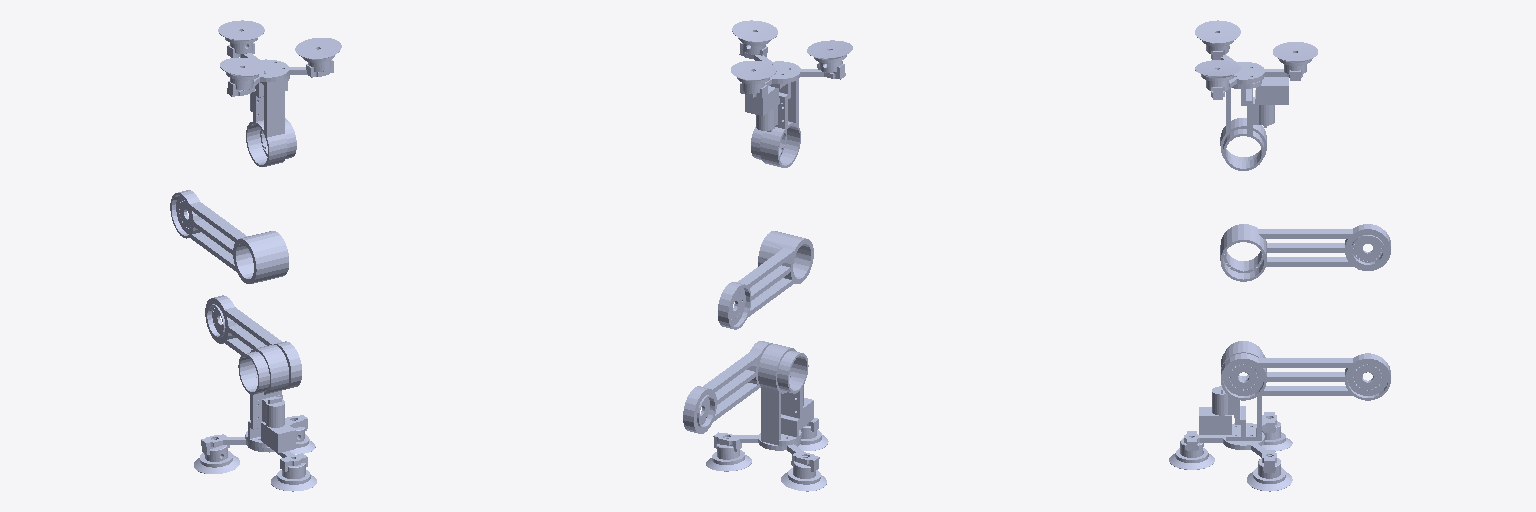
robot.urdf — bigmama0310:
<?xml version="1.0" encoding="utf-8" ?>
<!-- This URDF was automatically created by SolidWorks to URDF Exporter! Originally created by [author] ([email redacted]) 
     Commit Version: 1.6.0-1-g15f4949  Build Version: 1.6.7594.29634
     For more information, please see http://wiki.ros.org/sw_urdf_exporter -->
<robot name="bigmama0310">
    <link name="dummy" />
    <link name="Link_0">
        
<inertial>
            <origin xyz="-0.0036197 -0.0088605 0.029488" rpy="0 0 0" />
            <mass value="0.80666" />
            <inertia ixx="0.0014974" ixy="-1.2947E-05" ixz="1.4235E-05" iyy="0.0014446" iyz="-7.5473E-06" izz="0.0010286" />
        </inertial>

        <visual>
            <origin xyz="0 0 0" rpy="0 0 0" />
            <geometry>
                <mesh filename="package://bigmama0310/meshes/Link_0.STL" />
            </geometry>
            <material name="">
                <color rgba="0.79216 0.81961 0.93333 1" />
            </material>
        </visual>
        <collision>
            <origin xyz="0 0 0" rpy="0 0 0" />
            <geometry>
                <mesh filename="package://bigmama0310/meshes/Link_0.STL" />
            </geometry>
        </collision>
    </link>
    <joint name="dummy_joint" type="fixed">
        <parent link="dummy" />
        <child link="Link_0" />
    </joint>
    <link name="Link_1">
        
<inertial>
            <origin xyz="-6.6613E-16 0.12 0.014813" rpy="0 0 0" />
            <mass value="0.28238" />
            <inertia ixx="0.0027445" ixy="4.8493E-20" ixz="4.7639E-21" iyy="0.00019508" iyz="-5.2573E-20" izz="0.0029159" />
        </inertial>

        <visual>
            <origin xyz="0 0 0" rpy="0 0 0" />
            <geometry>
                <mesh filename="package://bigmama0310/meshes/Link_1.STL" />
            </geometry>
            <material name="">
                <color rgba="0.79216 0.81961 0.93333 1" />
            </material>
        </visual>
        <collision>
            <origin xyz="0 0 0" rpy="0 0 0" />
            <geometry>
                <mesh filename="package://bigmama0310/meshes/Link_1.STL" />
            </geometry>
        </collision>
    </link>
    <joint name="Joint_1" type="revolute">
        <origin xyz="0.022 0 0.155" rpy="1.5708 0 1.5708" />
        <parent link="Link_0" />
        <child link="Link_1" />
        <axis xyz="0 0 -1" />
        <limit lower="-3.14" upper="3.14" effort="100" velocity="0.25" />
    </joint>
    <link name="Link_2">
        
<inertial>
            <origin xyz="1.1102E-16 0.098184 -0.051898" rpy="0 0 0" />
            <mass value="0.34516" />
            <inertia ixx="0.0036332" ixy="3.4187E-18" ixz="-4.4355E-19" iyy="0.00034405" iyz="0.00024115" izz="0.0037914" />
        </inertial>

        <visual>
            <origin xyz="0 0 0" rpy="0 0 0" />
            <geometry>
                <mesh filename="package://bigmama0310/meshes/Link_2.STL" />
            </geometry>
            <material name="">
                <color rgba="0.79216 0.81961 0.93333 1" />
            </material>
        </visual>
        <collision>
            <origin xyz="0 0 0" rpy="0 0 0" />
            <geometry>
                <mesh filename="package://bigmama0310/meshes/Link_2.STL" />
            </geometry>
        </collision>
    </link>
    <joint name="Joint_2" type="revolute">
        <origin xyz="0 0.24 0" rpy="0 0 0" />
        <parent link="Link_1" />
        <child link="Link_2" />
        <axis xyz="0 0 -1" />
        <limit lower="-3.14" upper="3.14" effort="100" velocity="0.25" />
    </joint>
    <link name="Link_3">
        
<inertial>
            <origin xyz="0.018256 0.077688 0.029219" rpy="0 0 0" />
            <mass value="0.40524" />
            <inertia ixx="0.0010067" ixy="-1.0212E-05" ixz="-1.2958E-05" iyy="0.00027741" iyz="1.4235E-05" izz="0.0011025" />
        </inertial>

        <visual>
            <origin xyz="0 0 0" rpy="0 0 0" />
            <geometry>
                <mesh filename="package://bigmama0310/meshes/Link_3.STL" />
            </geometry>
            <material name="">
                <color rgba="0.79216 0.81961 0.93333 1" />
            </material>
        </visual>
        <collision>
            <origin xyz="0 0 0" rpy="0 0 0" />
            <geometry>
                <mesh filename="package://bigmama0310/meshes/Link_3.STL" />
            </geometry>
        </collision>
    </link>
    <joint name="Joint_3" type="revolute">
        <origin xyz="0 0.24 -0.0442" rpy="0 0 0" />
        <parent link="Link_2" />
        <child link="Link_3" />
        <axis xyz="0 0 1" />
        <limit lower="-3.14" upper="3.14" effort="100" velocity="0.25" />
    </joint>
    <link name="Link_4">
        
<inertial>
            <origin xyz="-0.0019821 -5.3163E-05 -0.0061503" rpy="0 0 0" />
            <mass value="0.11687" />
            <inertia ixx="0.00032202" ixy="1.2427E-08" ixz="-2.8556E-06" iyy="0.00028102" iyz="7.1483E-09" izz="0.00059866" />
        </inertial>

        <visual>
            <origin xyz="0 0 0" rpy="0 0 0" />
            <geometry>
                <mesh filename="package://bigmama0310/meshes/Link_4.STL" />
            </geometry>
            <material name="">
                <color rgba="0.79216 0.81961 0.93333 1" />
            </material>
        </visual>
        <collision>
            <origin xyz="0 0 0" rpy="0 0 0" />
            <geometry>
                <mesh filename="package://bigmama0310/meshes/Link_4.STL" />
            </geometry>
        </collision>
    </link>
    <joint name="Joint_4" type="revolute">
        <origin xyz="0 0.145 0.022" rpy="1.5708 0 0" />
        <parent link="Link_3" />
        <child link="Link_4" />
        <axis xyz="0 0 -1" />
        <limit lower="0" upper="0.0001" effort="50" velocity="0.0001" />
        <dynamics damping="10" friction="10" />
    </joint>
    <link name="Link_forwardsucker">
        
<inertial>
            <origin xyz="0.00019923 2.8479E-08 -0.00091557" rpy="0 0 0" />
            <mass value="0.094825" />
            <inertia ixx="3.8502E-05" ixy="2.9201E-10" ixz="-2.0628E-07" iyy="3.7774E-05" iyz="1.0266E-11" izz="5.0867E-05" />
        </inertial>

        <visual>
            <origin xyz="0 0 0" rpy="0 0 0" />
            <geometry>
                <mesh filename="package://bigmama0310/meshes/Link_forwardsucker.STL" />
            </geometry>
            <material name="">
                <color rgba="0.79216 0.81961 0.93333 1" />
            </material>
        </visual>
        <collision>
            <origin xyz="0 0 0" rpy="0 0 0" />
            <geometry>
                <mesh filename="package://bigmama0310/meshes/Link_forwardsucker.STL" />
            </geometry>
        </collision>
    </link>
    <joint name="Joint_forwardsucker" type="revolute">
        <origin xyz="0.1 0 -0.035" rpy="0 0 0" />
        <parent link="Link_4" />
        <child link="Link_forwardsucker" />
        <axis xyz="0 0 -1" />
        <limit lower="0" upper="0.0001" effort="50" velocity="0.0001" />
        <dynamics damping="10" friction="10" />
    </joint>
    <link name="Link_innersucker">
        
<inertial>
            <origin xyz="-0.00019923 -3.1852E-08 -0.00091557" rpy="0 0 0" />
            <mass value="0.094825" />
            <inertia ixx="3.8502E-05" ixy="2.7231E-10" ixz="2.0628E-07" iyy="3.7774E-05" iyz="-1.9159E-11" izz="5.0867E-05" />
        </inertial>

        <visual>
            <origin xyz="0 0 0" rpy="0 0 0" />
            <geometry>
                <mesh filename="package://bigmama0310/meshes/Link_innersucker.STL" />
            </geometry>
            <material name="">
                <color rgba="0.79216 0.81961 0.93333 1" />
            </material>
        </visual>
        <collision>
            <origin xyz="0 0 0" rpy="0 0 0" />
            <geometry>
                <mesh filename="package://bigmama0310/meshes/Link_innersucker.STL" />
            </geometry>
        </collision>
    </link>
    <joint name="Joint_innersucker" type="revolute">
        <origin xyz="-0.05 -0.084379 -0.038337" rpy="0.078319 0 0" />
        <parent link="Link_4" />
        <child link="Link_innersucker" />
        <axis xyz="0 0 -1" />
        <limit lower="0" upper="0.0001" effort="50" velocity="0.0001" />
        <dynamics damping="10" friction="10" />
    </joint>
    <link name="Link_extersucker">
        
<inertial>
            <origin xyz="-0.00019923 -2.3068E-08 -0.00091557" rpy="0 0 0" />
            <mass value="0.094825" />
            <inertia ixx="3.8502E-05" ixy="2.7492E-10" ixz="2.0628E-07" iyy="3.7774E-05" iyz="-5.9501E-12" izz="5.0867E-05" />
        </inertial>

        <visual>
            <origin xyz="0 0 0" rpy="0 0 0" />
            <geometry>
                <mesh filename="package://bigmama0310/meshes/Link_extersucker.STL" />
            </geometry>
            <material name="">
                <color rgba="0.79216 0.81961 0.93333 1" />
            </material>
        </visual>
        <collision>
            <origin xyz="0 0 0" rpy="0 0 0" />
            <geometry>
                <mesh filename="package://bigmama0310/meshes/Link_extersucker.STL" />
            </geometry>
        </collision>
    </link>
    <joint name="Joint_extersucker" type="revolute">
        <origin xyz="-0.05 0.084379 -0.038337" rpy="-0.078319 0 0" />
        <parent link="Link_4" />
        <child link="Link_extersucker" />
        <axis xyz="0 0 -1" />
        <limit lower="0" upper="0.0001" effort="50" velocity="0.0001" />
        <dynamics damping="10" friction="10" />
    </joint>
    
<transmission name="trans_Joint_1">
        <type>transmission_interface/SimpleTransmission</type>
        <joint name="Joint_1">
            <hardwareInterface>hardware_interface/PositionJointInterface</hardwareInterface>
        </joint>
        <actuator name="Joint_1_motor">
            <hardwareInterface>hardware_interface/PositionJointInterface</hardwareInterface>
            <mechanicalReduction>1</mechanicalReduction>
        </actuator>
    </transmission>
    <transmission name="trans_Joint_2">
        <type>transmission_interface/SimpleTransmission</type>
        <joint name="Joint_2">
            <hardwareInterface>hardware_interface/PositionJointInterface</hardwareInterface>
        </joint>
        <actuator name="Joint_2_motor">
            <hardwareInterface>hardware_interface/PositionJointInterface</hardwareInterface>
            <mechanicalReduction>1</mechanicalReduction>
        </actuator>
    </transmission>
    <transmission name="trans_Joint_3">
        <type>transmission_interface/SimpleTransmission</type>
        <joint name="Joint_3">
            <hardwareInterface>hardware_interface/PositionJointInterface</hardwareInterface>
        </joint>
        <actuator name="Joint_3_motor">
            <hardwareInterface>hardware_interface/PositionJointInterface</hardwareInterface>
            <mechanicalReduction>1</mechanicalReduction>
        </actuator>
    </transmission>
    <transmission name="trans_Joint_4">
        <type>transmission_interface/SimpleTransmission</type>
        <joint name="Joint_4">
            <hardwareInterface>hardware_interface/PositionJointInterface</hardwareInterface>
        </joint>
        <actuator name="Joint_4_motor">
            <hardwareInterface>hardware_interface/PositionJointInterface</hardwareInterface>
            <mechanicalReduction>1</mechanicalReduction>
        </actuator>
    </transmission>
    <transmission name="trans_Joint_forwardsucker">
        <type>transmission_interface/SimpleTransmission</type>
        <joint name="Joint_forwardsucker">
            <hardwareInterface>hardware_interface/PositionJointInterface</hardwareInterface>
        </joint>
        <actuator name="Joint_forwardsucker_motor">
            <hardwareInterface>hardware_interface/PositionJointInterface</hardwareInterface>
            <mechanicalReduction>1</mechanicalReduction>
        </actuator>
    </transmission>
    <transmission name="trans_Joint_innersucker">
        <type>transmission_interface/SimpleTransmission</type>
        <joint name="Joint_innersucker">
            <hardwareInterface>hardware_interface/PositionJointInterface</hardwareInterface>
        </joint>
        <actuator name="Joint_innersucker_motor">
            <hardwareInterface>hardware_interface/PositionJointInterface</hardwareInterface>
            <mechanicalReduction>1</mechanicalReduction>
        </actuator>
    </transmission>
    <transmission name="trans_Joint_extersucker">
        <type>transmission_interface/SimpleTransmission</type>
        <joint name="Joint_extersucker">
            <hardwareInterface>hardware_interface/PositionJointInterface</hardwareInterface>
        </joint>
        <actuator name="Joint_extersucker_motor">
            <hardwareInterface>hardware_interface/PositionJointInterface</hardwareInterface>
            <mechanicalReduction>1</mechanicalReduction>
        </actuator>
    </transmission>
    <gazebo reference="Link_3">
        <material>Gazebo/Yellow</material>
        <mu1>100</mu1>
        <mu2>100</mu2>
        <fdir1>1 0 0</fdir1>
        <slip1>0</slip1>
        <slip2>0</slip2>
    </gazebo>
    <gazebo reference="Link_0">
        <material>Gazebo/Green</material>
        <mu1>0.9</mu1>
        <mu2>0.9</mu2>
        <fdir1>1 0 0</fdir1>
        <slip1>0</slip1>
        <slip2>0</slip2>
    </gazebo>
    <gazebo>
        <plugin name="gazebo_ros_control" filename="libgazebo_ros_control.so">
            <robotNamespace>/</robotNamespace>
        </plugin>
    </gazebo>
</robot>

--- What the picture shows (computed from the rendered views, not written in the file) ---
The picture shows the robot from 3 angles, left to right: view 1: azimuth 30°, elevation 25°; view 2: azimuth 150°, elevation 25°; view 3: azimuth 270°, elevation 25°; orthographic projection.
Robot: bigmama0310 — 9 links, 8 joints (7 revolute, 1 fixed); root link dummy; default pose: every joint at zero.
Links seen in each view (by area): view 1: Link_0, Link_2, Link_3, Link_1, Link_4, Link_extersucker, Link_forwardsucker, Link_innersucker; view 2: Link_0, Link_2, Link_3, Link_1, Link_4, Link_extersucker, Link_forwardsucker, Link_innersucker; view 3: Link_0, Link_2, Link_1, Link_3, Link_4, Link_innersucker, Link_forwardsucker, Link_extersucker.
Boxes of the visible links, x1,y1,x2,y2 form: Link_0: (194, 344, 316, 491); Link_2: (170, 190, 288, 283); Link_3: (246, 75, 296, 166); Link_1: (205, 295, 301, 389); Link_4: (227, 42, 333, 96); Link_extersucker: (295, 38, 341, 71); Link_forwardsucker: (218, 20, 264, 53); Link_innersucker: (220, 58, 265, 90); Link_0: (706, 344, 828, 491); Link_2: (718, 231, 813, 329); Link_3: (745, 79, 800, 167); Link_1: (683, 341, 772, 433); Link_4: (739, 43, 845, 97); Link_extersucker: (732, 20, 777, 54); Link_forwardsucker: (731, 61, 776, 93); Link_innersucker: (807, 40, 852, 72); Link_0: (1169, 341, 1292, 491); Link_2: (1220, 224, 1390, 281); Link_1: (1221, 353, 1390, 400); Link_3: (1220, 77, 1288, 170); Link_4: (1211, 51, 1302, 99); Link_innersucker: (1195, 20, 1240, 54); Link_forwardsucker: (1273, 42, 1317, 74); Link_extersucker: (1195, 60, 1240, 90).
Size in the robot's own frame: 0.2553 by 0.4291 by 0.8854 metres.
8 mesh visuals loaded from 8 distinct referenced files (8 binary STL).
